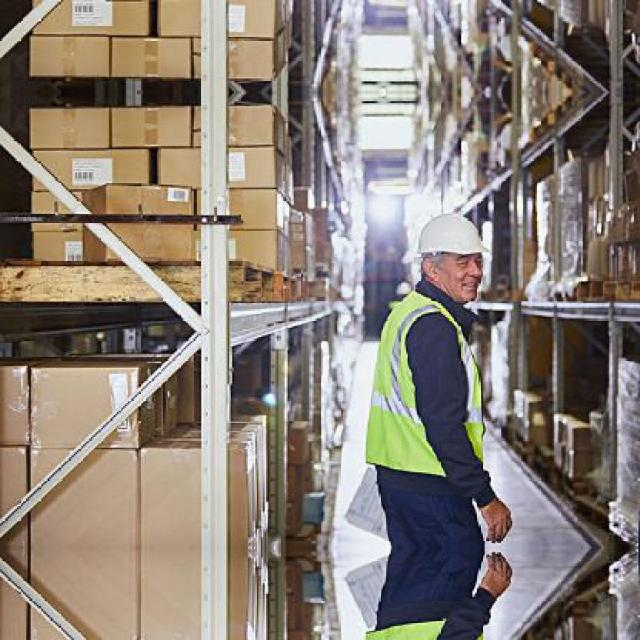helmet: (406, 202, 496, 303)
